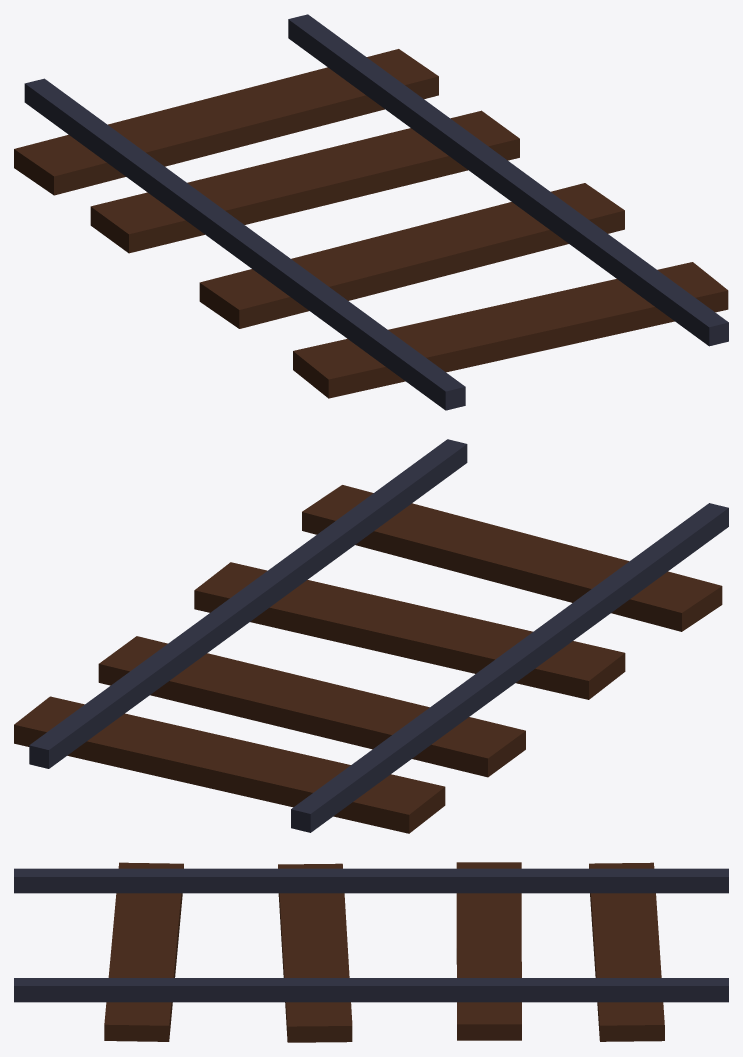
Rendered from RailsStraight.glb.
The picture shows the model from 3 angles, top to bottom: view 1: azimuth 30°, elevation 25°; view 2: azimuth 150°, elevation 25°; view 3: azimuth 270°, elevation 25°; orthographic projection. The views are drawn at different scales.
Parts seen in each view (by area): view 1: RailsStraight; view 2: RailsStraight; view 3: RailsStraight.
Boxes of the visible parts, box(x1,y1,x2,y2) form: RailsStraight: box(14, 14, 728, 410); RailsStraight: box(14, 439, 728, 833); RailsStraight: box(14, 862, 728, 1042).
Bounding box in the file's own units: 0.5441 × 0.0509 × 1.
1 material, 1 textured.
